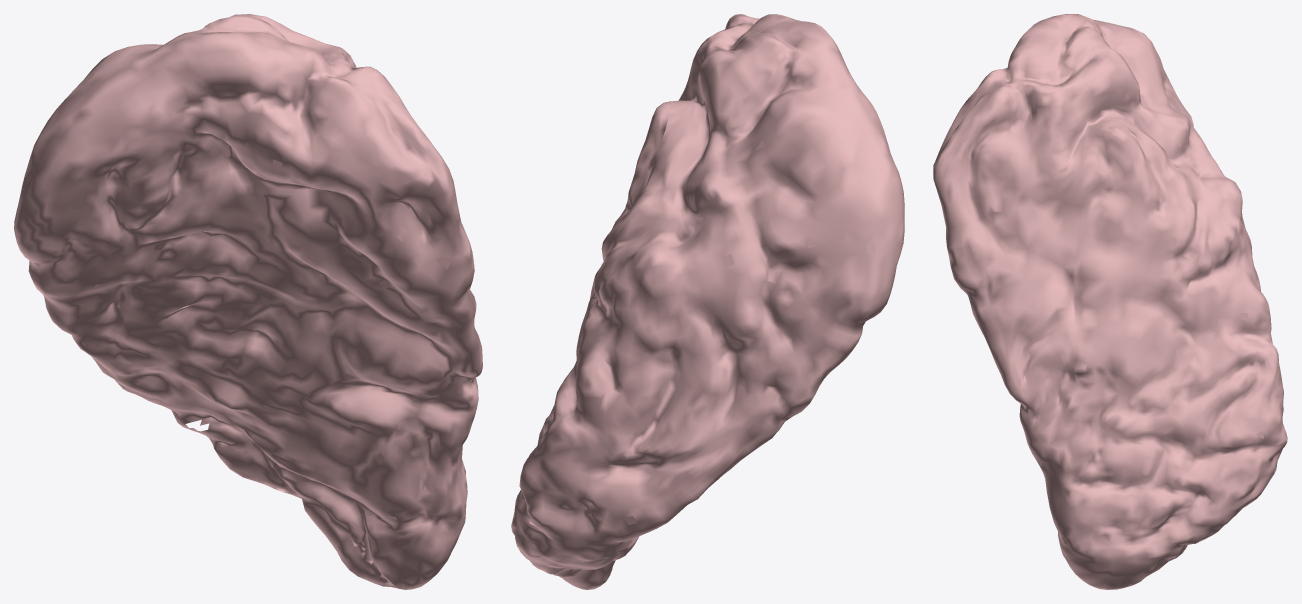
3 views of the same model, side by side, from view 1: azimuth 30°, elevation 25°; view 2: azimuth 150°, elevation 25°; view 3: azimuth 270°, elevation 25° (orthographic). The views are drawn at different scales.
Visible parts, largest first — view 1: VH_F_palatine_tonsil_L; view 2: VH_F_palatine_tonsil_L; view 3: VH_F_palatine_tonsil_L.
Boxes of the visible parts, left/top/right/bottom form: VH_F_palatine_tonsil_L: left=14, top=14, right=482, bottom=589; VH_F_palatine_tonsil_L: left=511, top=14, right=904, bottom=589; VH_F_palatine_tonsil_L: left=933, top=14, right=1287, bottom=589.
Size of the model in its own units: 0.0163 by 0.0243 by 0.0159.
